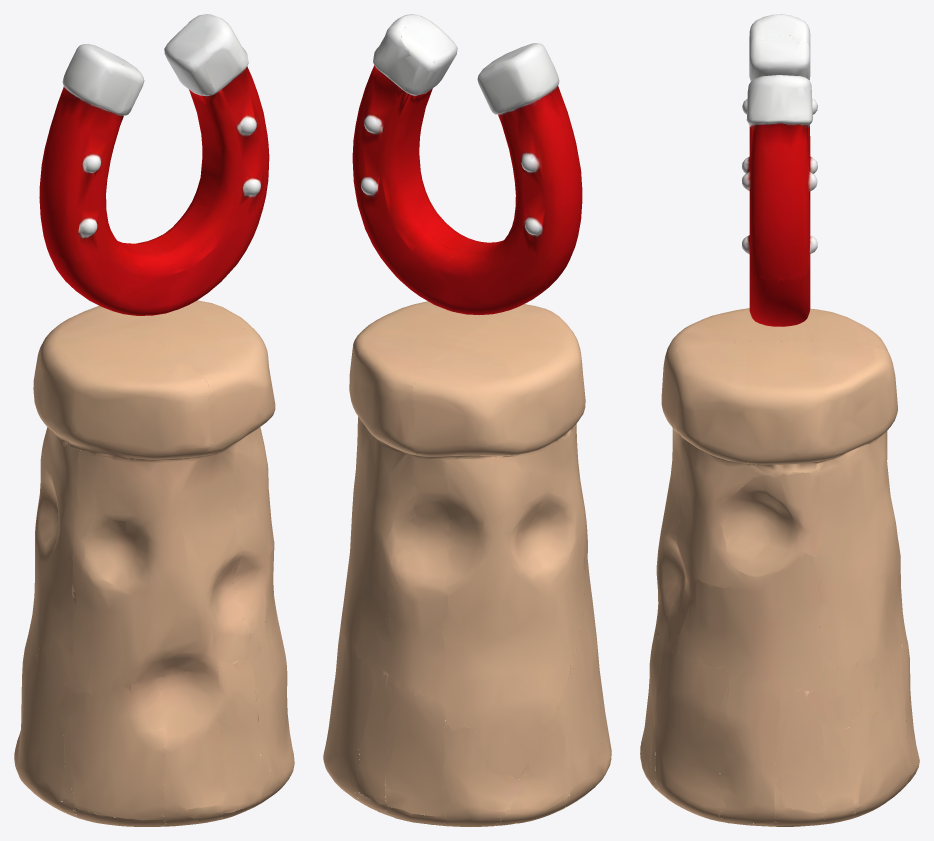
File: magnet.glb
3 views of the same model, side by side, from view 1: azimuth 30°, elevation 25°; view 2: azimuth 150°, elevation 25°; view 3: azimuth 270°, elevation 25° (orthographic).
Parts seen in each view (by area): view 1: magnet; view 2: magnet; view 3: magnet.
Boxes of the visible parts, x1=… form: magnet: x1=14, y1=14, x2=294, y2=826; magnet: x1=323, y1=14, x2=611, y2=826; magnet: x1=640, y1=14, x2=919, y2=826.
Size of the model in its own units: 0.3479 by 1 by 0.3482.
1 material, 1 textured.
